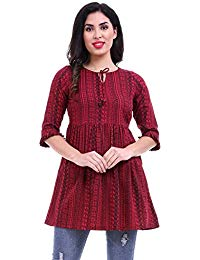tops: (39, 62, 161, 230)
